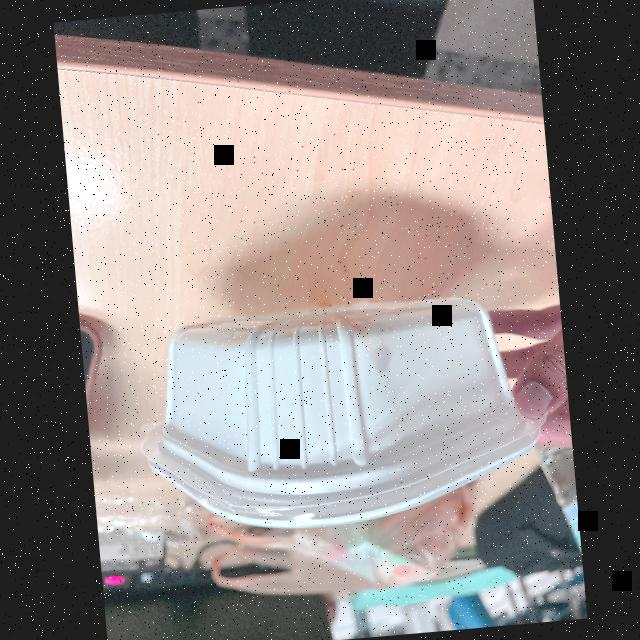plastic_box: (122, 274, 556, 551)
